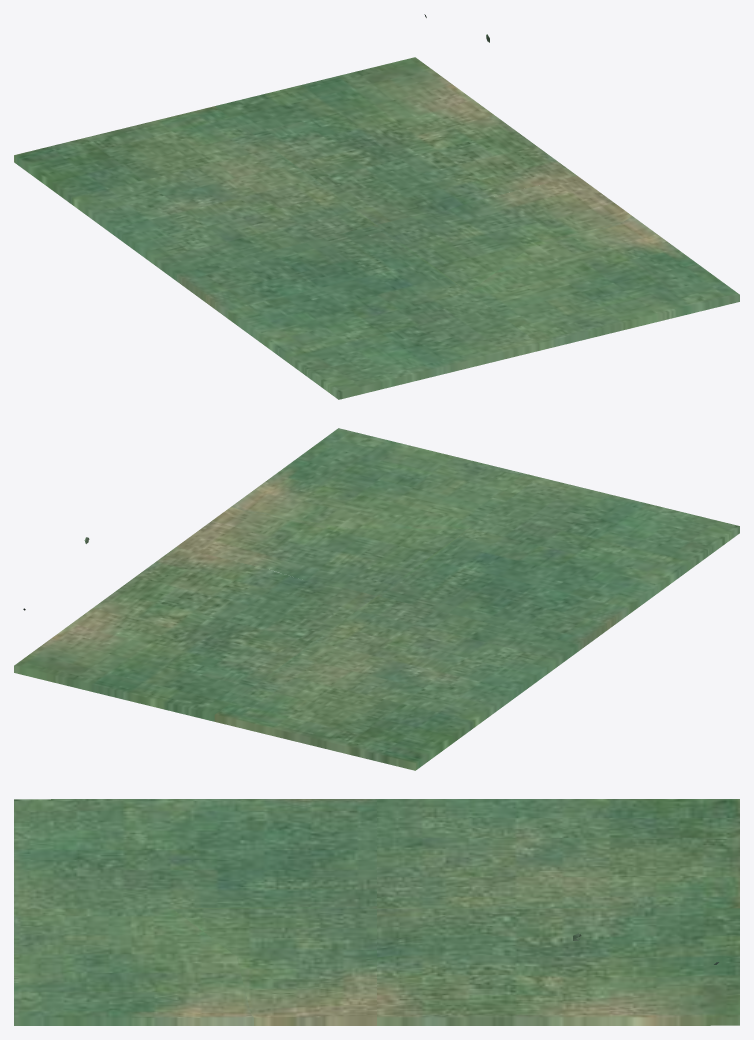
3 views of the same model, one above another, from view 1: azimuth 30°, elevation 25°; view 2: azimuth 150°, elevation 25°; view 3: azimuth 270°, elevation 25° (orthographic). The views are drawn at different scales.
Visible parts, largest first — view 1: 30436272704370436630_0; view 2: 30436272704370436630_0; view 3: 30436272704370436630_0.
Part boxes in pixels (bbox=[...]): 30436272704370436630_0: bbox=[14, 14, 739, 399]; 30436272704370436630_0: bbox=[14, 428, 739, 770]; 30436272704370436630_0: bbox=[14, 799, 739, 1025].
Bounding box in the file's own units: 27.32 × 5.4 × 38.26.
1 material, 1 textured.
